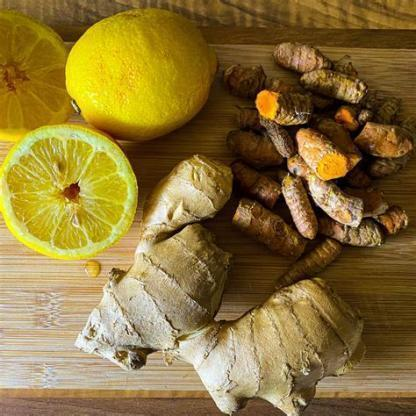lemon: (65, 9, 218, 141), (0, 122, 139, 260), (0, 12, 71, 143)
